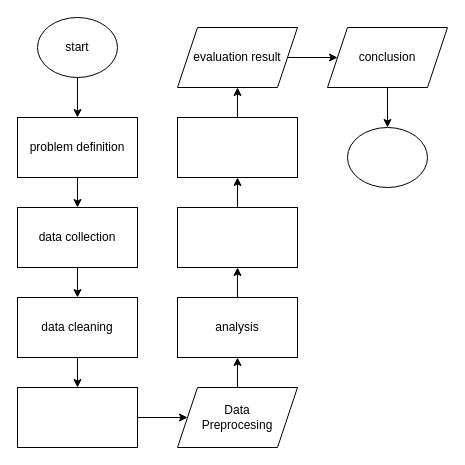
Some shapes in this 465 by 465 pixel diagram are drawn without their labels. The centre of each missing label's shape, as x and y in pixels:
"end" belongs at (387,157).
"evaluation" belongs at (237,147).
"preprocessing" belongs at (77,417).
"visualization" belongs at (237,237).
